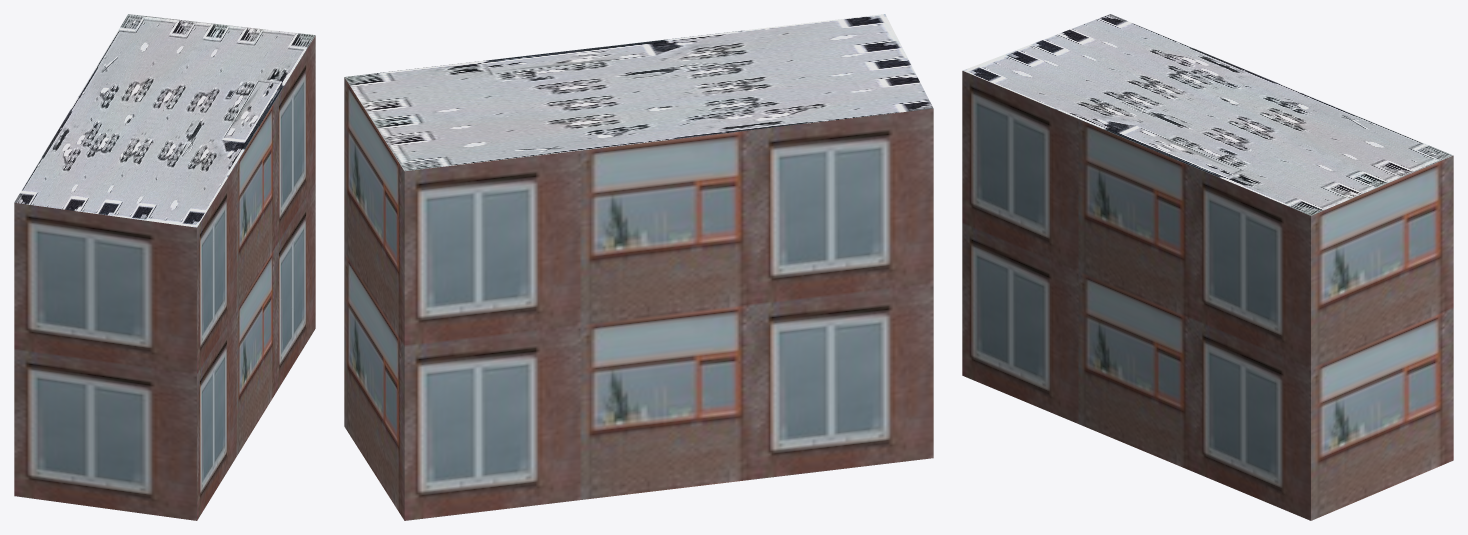
File: ResTex__4260.fbx
3 renders of one model, left to right at view 1: azimuth 30°, elevation 25°; view 2: azimuth 150°, elevation 25°; view 3: azimuth 270°, elevation 25°, orthographic. The views are drawn at different scales.
Parts seen in each view (by area): view 1: CityEngineMaterial_19_m, CityEngineMaterial_15_m; view 2: CityEngineMaterial_19_m, CityEngineMaterial_15_m; view 3: CityEngineMaterial_19_m, CityEngineMaterial_15_m.
Part boxes in pixels (x1=…): CityEngineMaterial_19_m: x1=14, y1=36, x2=315, y2=520; CityEngineMaterial_15_m: x1=14, y1=14, x2=315, y2=227; CityEngineMaterial_19_m: x1=344, y1=77, x2=933, y2=520; CityEngineMaterial_15_m: x1=344, y1=14, x2=933, y2=171; CityEngineMaterial_19_m: x1=962, y1=71, x2=1453, y2=520; CityEngineMaterial_15_m: x1=963, y1=14, x2=1452, y2=215.
Size of the model in its own units: 8.52 by 6 by 8.76.
2 materials, 2 textured.
